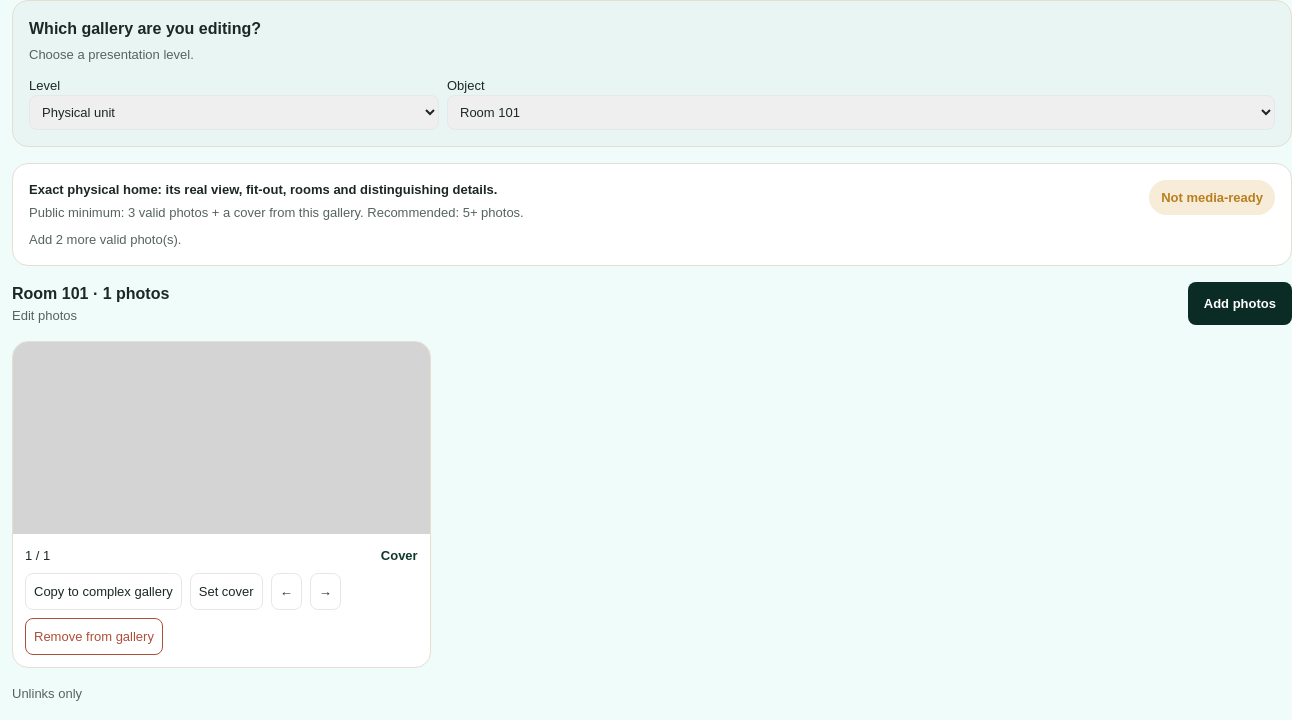
Test: copy existing unit photo to its parent complex › does not overwrite a failed source refresh with a success notice after copying
Click the button "Copy to complex gallery" at (103, 592), box [25,573,182,610]
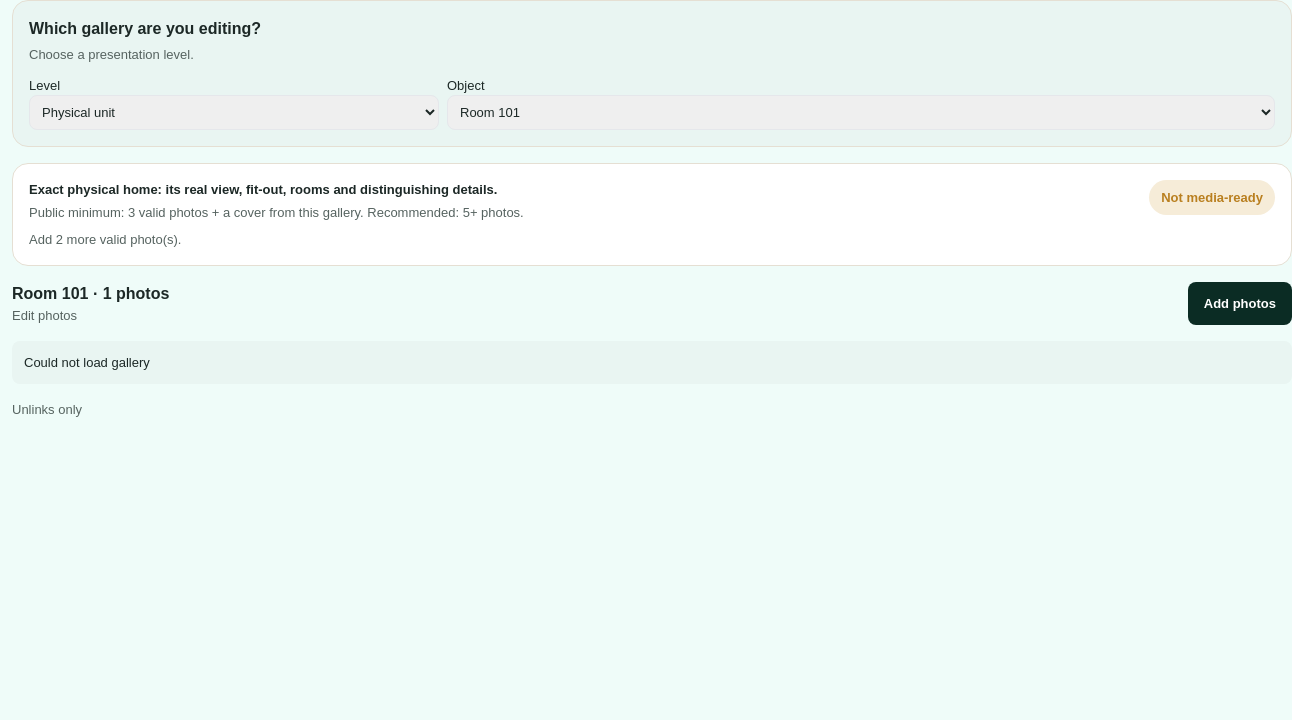
Now the text "Could not load gallery" is shown, box [12,341,1291,384]
